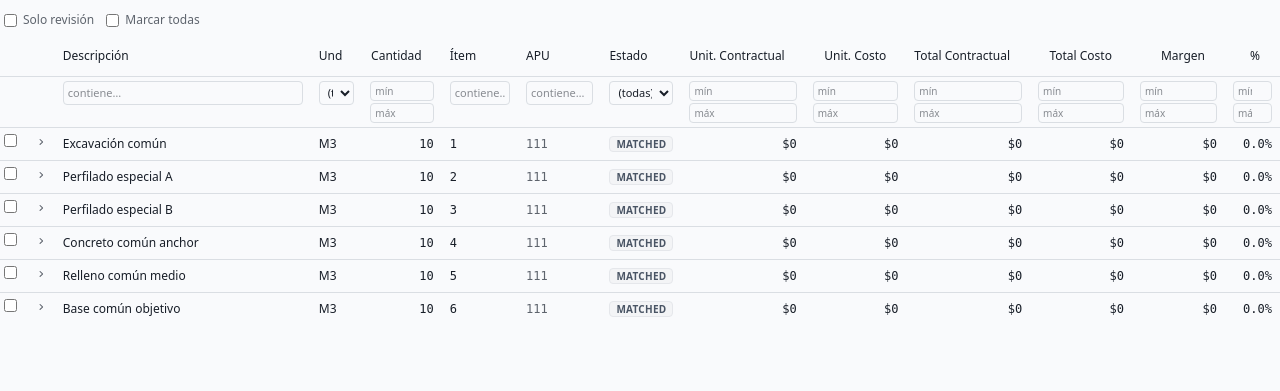
el ancla del rango sigue al seq, no al índice, cuando el filtro cambia entre el click y el Shift+click
The image size is (1280, 391).
Step 1. Click the checkbox named "Marcar ítem 4" → (10, 239), box [4,232,17,246]
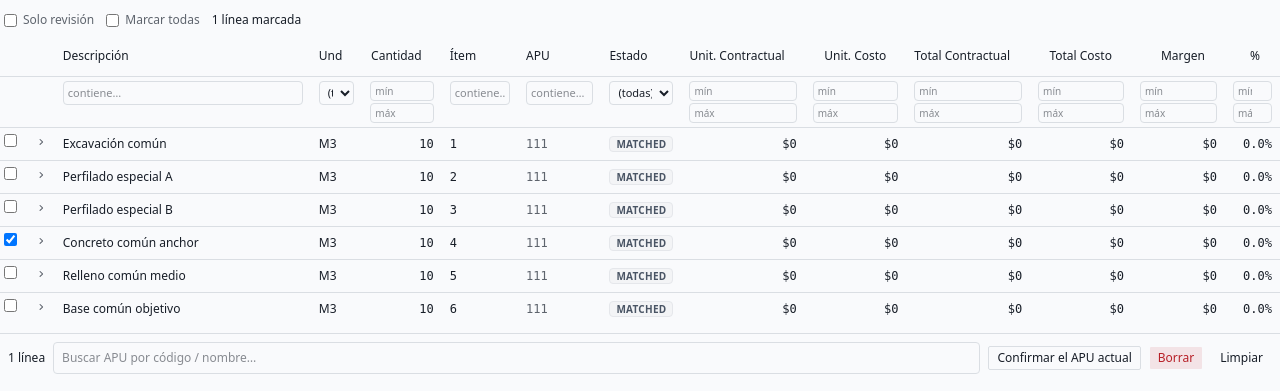
Step 2. Type "común" into the field named "Filtrar Descripción" → (183, 92), box [63,80,303,104]
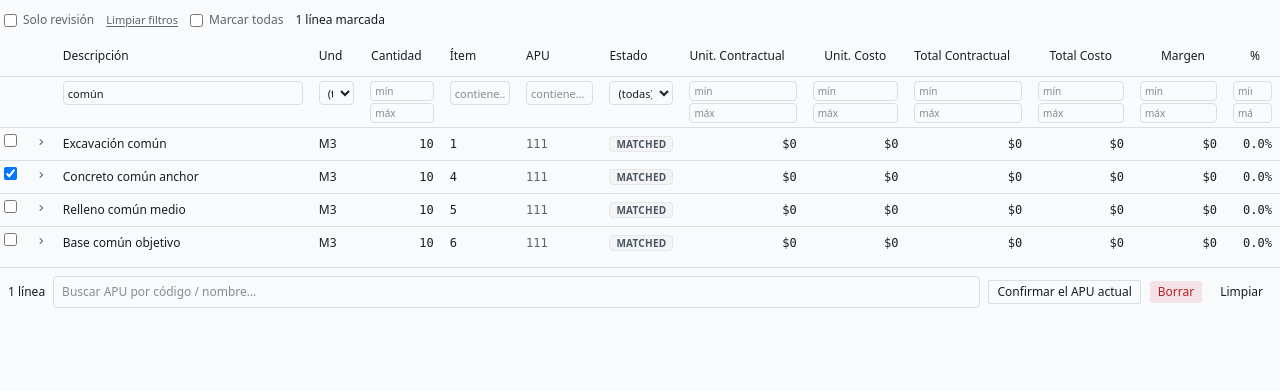
Step 3. Click the checkbox named "Marcar ítem 6" → (10, 240), box [4,233,17,246]
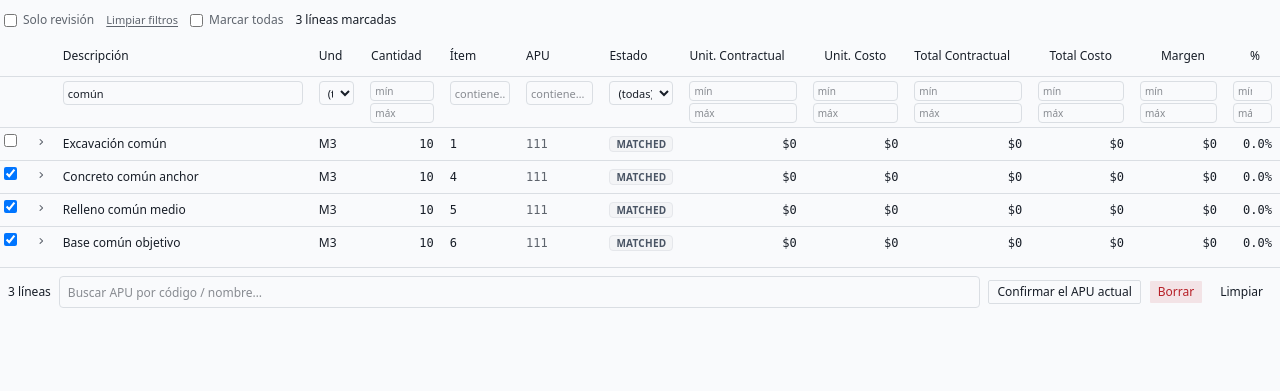
Expected: the text "3 líneas marcadas" is shown, [295,12,396,28]
